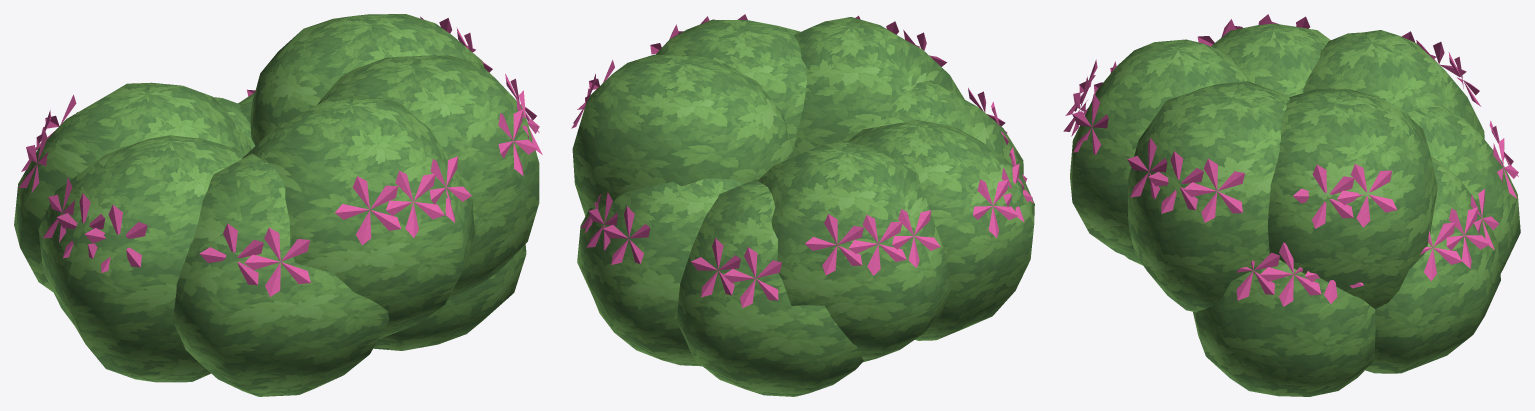
Rendered from bush.glb.
3 renders of one model, left to right at view 1: azimuth 30°, elevation 25°; view 2: azimuth 150°, elevation 25°; view 3: azimuth 270°, elevation 25°, orthographic. The views are drawn at different scales.
Parts seen in each view (by area): view 1: bush; view 2: bush; view 3: bush.
Part boxes in pixels (box(x1,y1,x2,y2)): bush: box(14, 14, 542, 396); bush: box(571, 14, 1034, 396); bush: box(1063, 14, 1520, 396).
Size of the model in its own units: 1.47 by 0.9354 by 1.34.
Materials: 1 (1 with a texture image).
